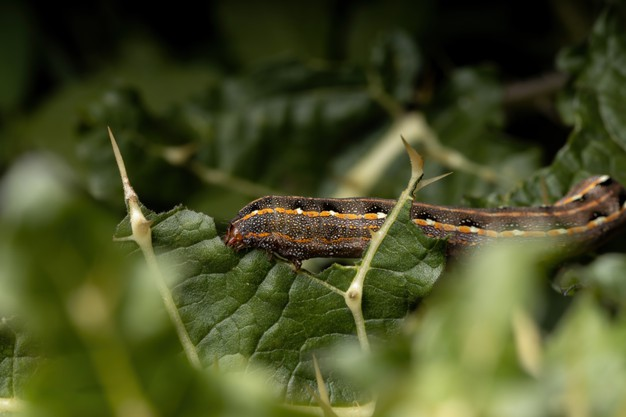Armyworm: (225, 165, 623, 265)
